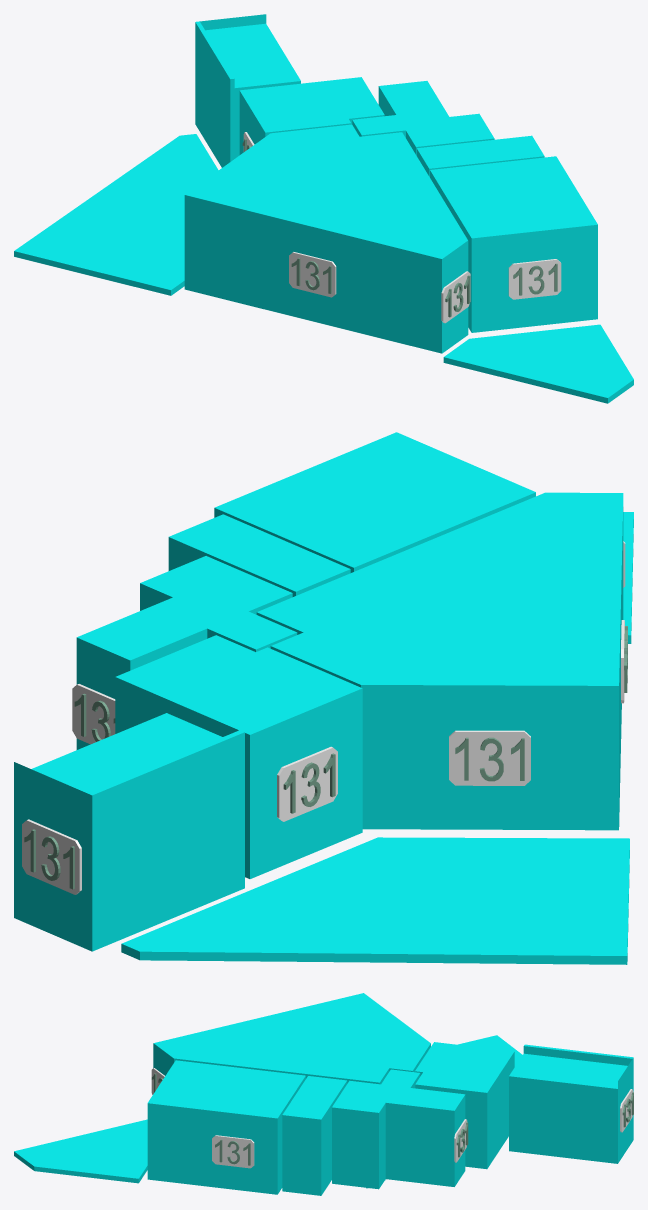
3 renders of one model, top to bottom at view 1: azimuth 30°, elevation 25°; view 2: azimuth 150°, elevation 25°; view 3: azimuth 270°, elevation 25°, orthographic. The views are drawn at different scales.
Visible parts, largest first — view 1: g_0, g_1, g_7, g_6, g_5, g_4, g_3, g_2, g_39, g_15, g_11; view 2: g_0, g_7, g_5, g_4, g_1, g_3, g_2, g_31, g_19, g_27, g_35, g_6; view 3: g_1, g_0, g_3, g_5, g_4, g_2, g_6, g_23, g_7.
Boxes of the visible parts, x1,y1,x2,y2 form: g_0: (184,124,468,353); g_1: (430,156,597,332); g_7: (14,134,218,295); g_6: (443,324,633,403); g_5: (195,14,300,167); g_4: (239,77,384,154); g_3: (352,81,494,155); g_2: (416,135,544,177); g_39: (508,259,561,299); g_15: (289,252,336,297); g_11: (441,271,470,323); g_0: (256,492,623,830); g_7: (121,837,629,964); g_5: (14,713,244,951); g_4: (115,635,362,878); g_1: (214,432,535,572); g_3: (76,556,297,749); g_2: (168,514,350,596); g_31: (449,730,530,785); g_19: (277,746,337,821); g_27: (22,819,81,894); g_35: (72,684,115,744); g_6: (623,512,633,643); g_1: (147,1060,305,1194); g_0: (153,993,430,1084); g_3: (332,1069,465,1189); g_5: (509,1044,633,1163); g_4: (415,1042,514,1169); g_2: (282,1076,347,1195); g_6: (14,1119,147,1183); g_23: (212,1135,254,1168); g_7: (458,1035,522,1066).
Bounding box in the file's own units: 11.3 × 2.85 × 18.36.
